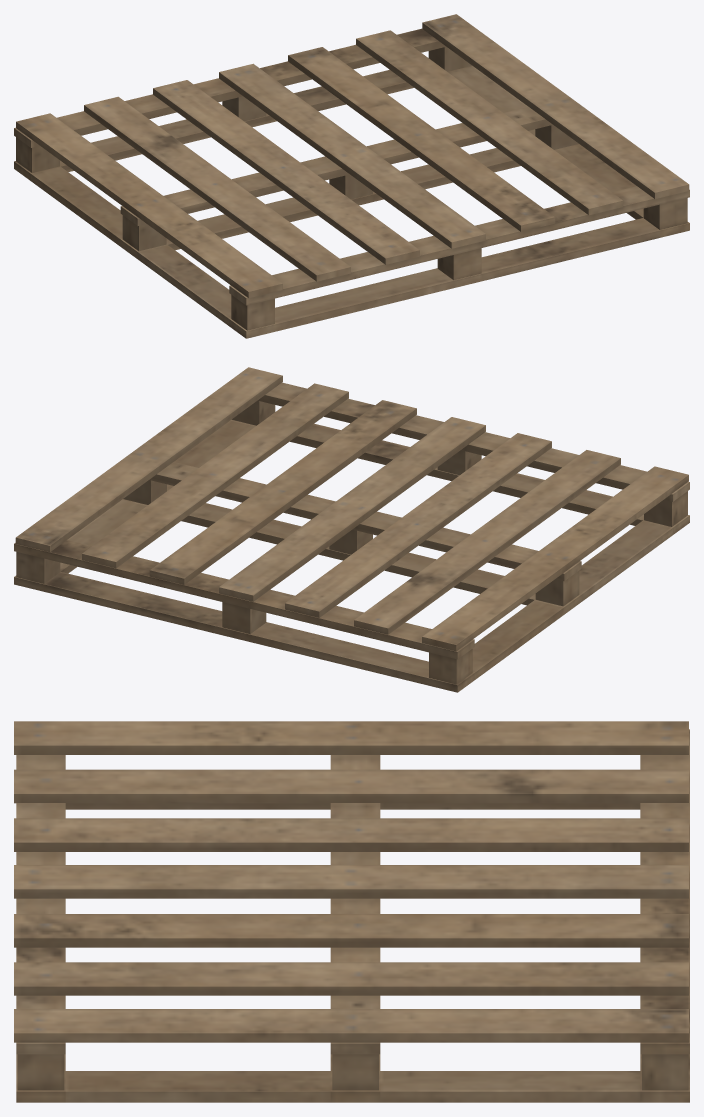
File: Wood_Pallet.fbx
3 views of the same model, one above another, from view 1: azimuth 30°, elevation 25°; view 2: azimuth 150°, elevation 25°; view 3: azimuth 270°, elevation 25° (orthographic). The views are drawn at different scales.
Visible parts, largest first — view 1: Wood_Pallet; view 2: Wood_Pallet; view 3: Wood_Pallet.
Part boxes in pixels (x1,y1,x2,y2): Wood_Pallet: (14,14,689,338); Wood_Pallet: (14,367,689,692); Wood_Pallet: (14,721,689,1102).
Bounding box in the file's own units: 120 × 12.15 × 109.
1 material, 1 textured.
